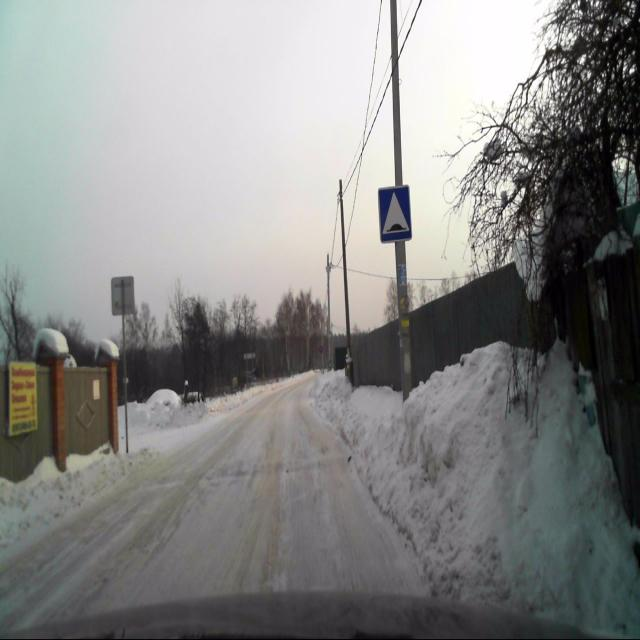road sign: (378, 185, 412, 244)
